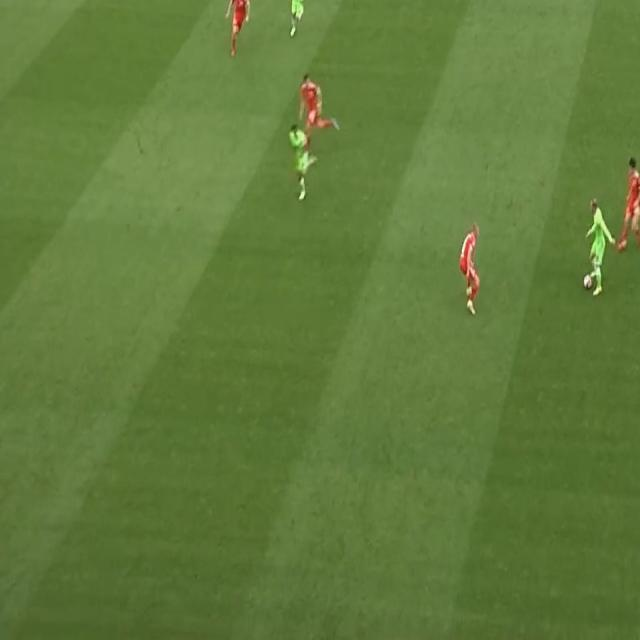ball: (582, 272, 592, 290)
